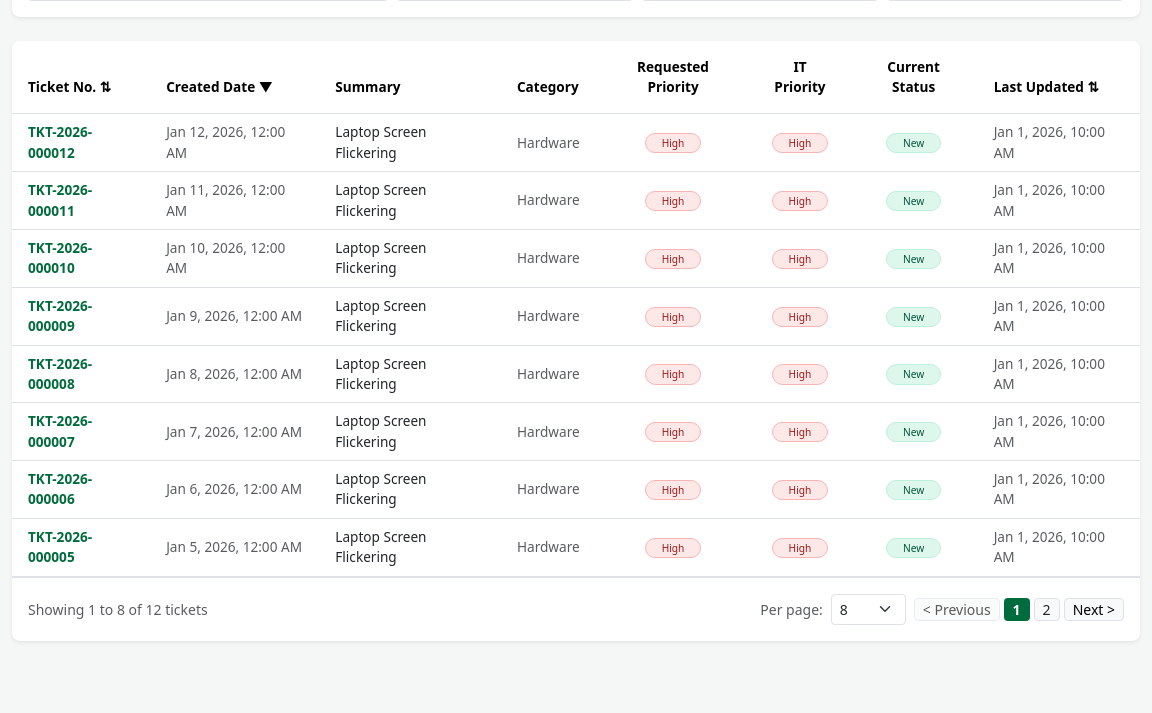
it: TicketListPage (My Tickets) Component › renders backend-driven pagination controls and requests the next page on click
(page scrolled)
Expected: the text "Showing 1 to 8 of 12 tickets" is shown, top-left (28, 599), bottom-right (208, 620)
Click the button "Next >".
click(1094, 609)  # box top-left (1064, 598), bottom-right (1124, 621)
(page scrolled)
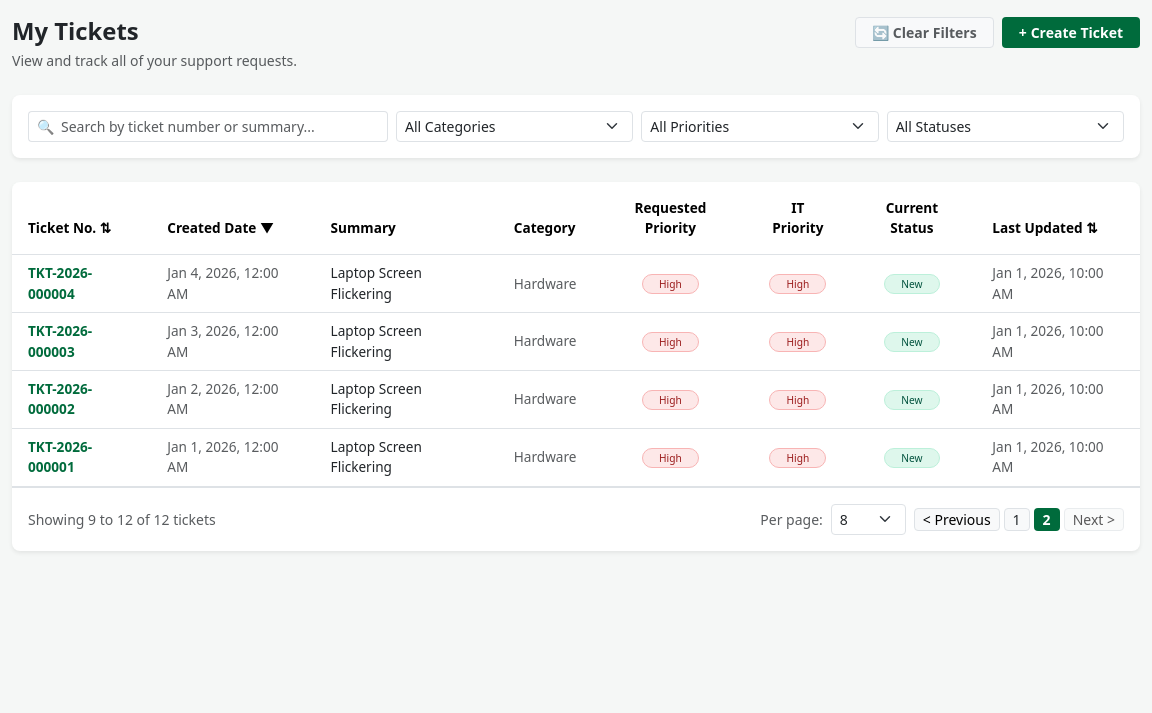
Result: the text "Showing 9 to 12 of 12 tickets" is shown at top-left (28, 508), bottom-right (216, 530)
